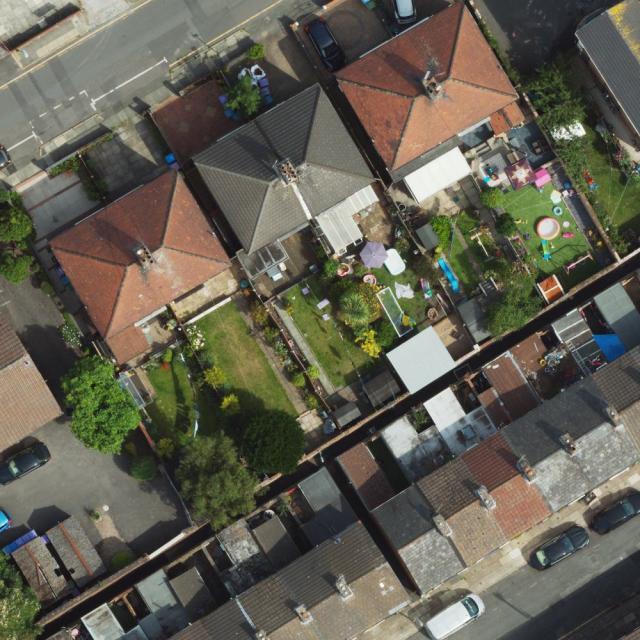roof: (52, 282, 640, 639), (48, 170, 233, 365), (195, 83, 377, 255), (335, 1, 514, 171), (0, 311, 64, 453), (578, 0, 640, 141)
skylight: (459, 421, 480, 445)
